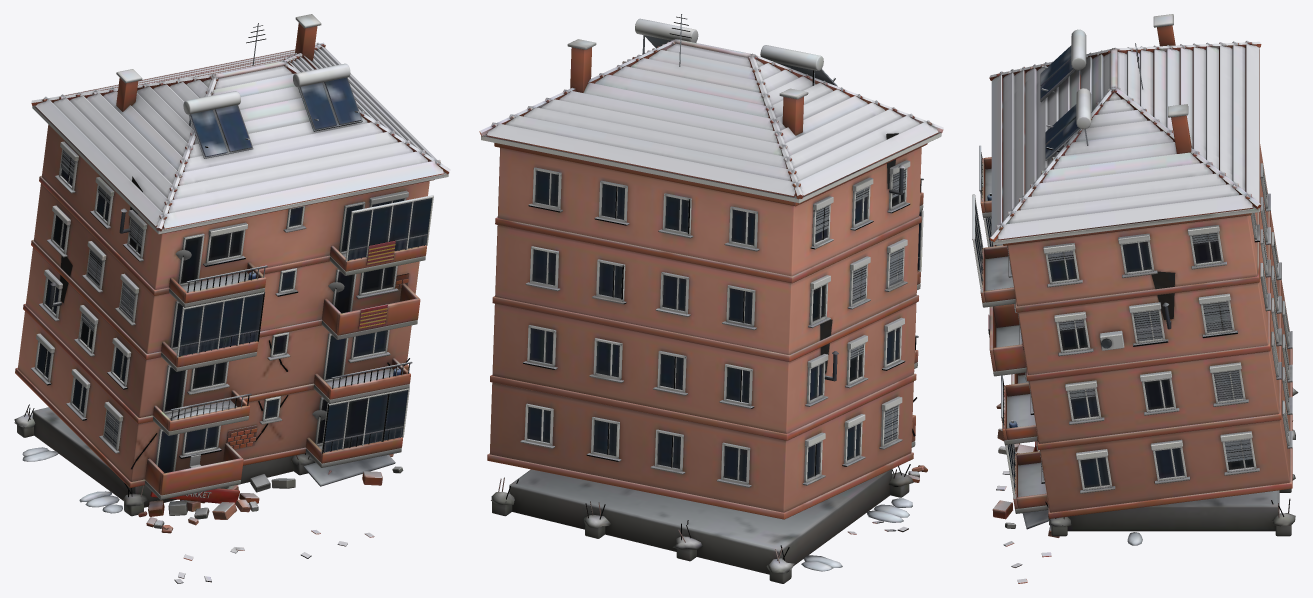
Rendered from apartment_b.glb.
The picture shows the model from 3 angles, left to right: view 1: azimuth 30°, elevation 25°; view 2: azimuth 150°, elevation 25°; view 3: azimuth 270°, elevation 25°; orthographic projection. The views are drawn at different scales.
Parts seen in each view (by area): view 1: apartment_b; view 2: apartment_b; view 3: apartment_b.
Boxes of the visible parts, box(x1,y1,x2,y2) form: apartment_b: box(14, 14, 450, 583); apartment_b: box(479, 14, 943, 583); apartment_b: box(972, 14, 1298, 583).
Size of the model in its own units: 14.16 by 20.84 by 12.08.
Materials: 1 (1 with a texture image).
